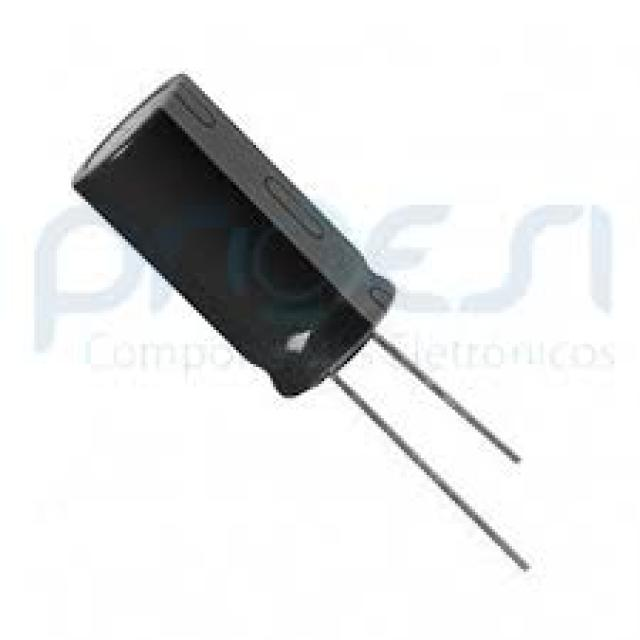Resistor: (74, 74, 404, 398)
